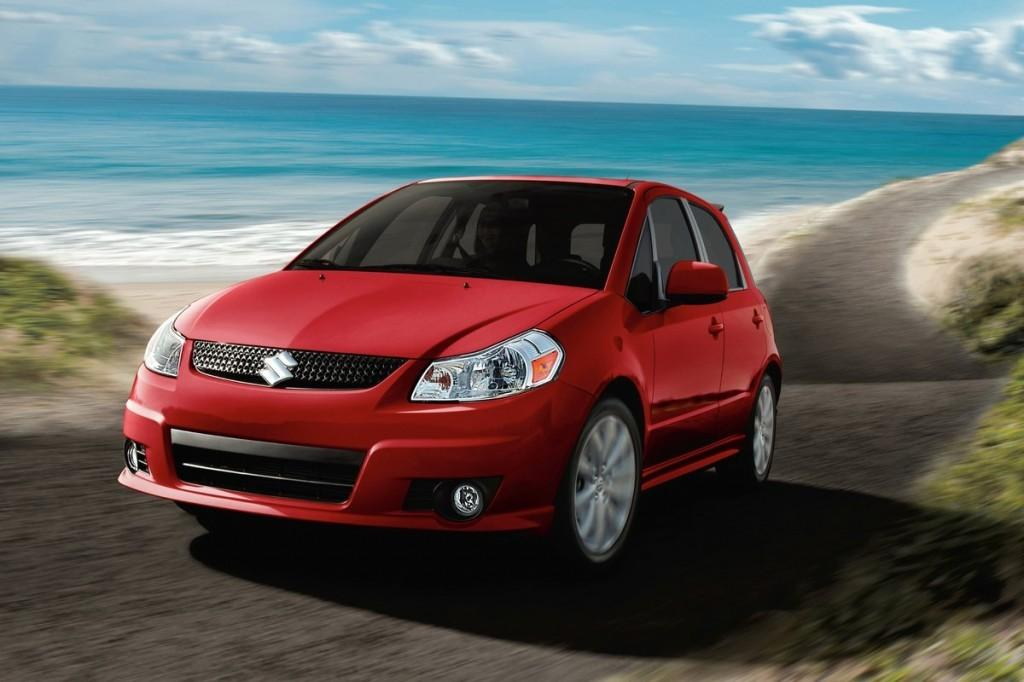Hatchback: (116, 172, 784, 570)
